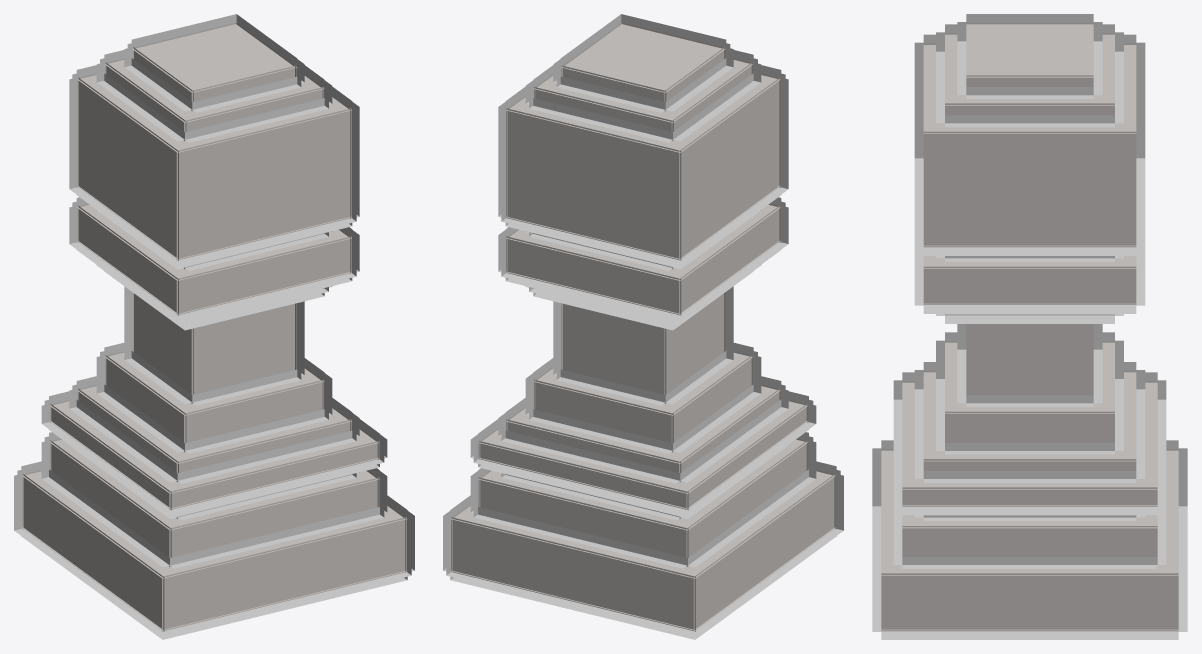
The model's file is white-pawn.glb.
3 renders of one model, left to right at view 1: azimuth 30°, elevation 25°; view 2: azimuth 150°, elevation 25°; view 3: azimuth 270°, elevation 25°, orthographic. The views are drawn at different scales.
Visible parts, largest first — view 1: chess-pawn-white_model; view 2: chess-pawn-white_model; view 3: chess-pawn-white_model.
Part boxes in pixels (left/top/right/bottom): chess-pawn-white_model: left=14, top=14, right=414, bottom=639; chess-pawn-white_model: left=443, top=14, right=843, bottom=639; chess-pawn-white_model: left=872, top=14, right=1187, bottom=639.
Bounding box in the file's own units: 1.48 × 2.78 × 1.48.
Materials: 2 (1 with a texture image).
